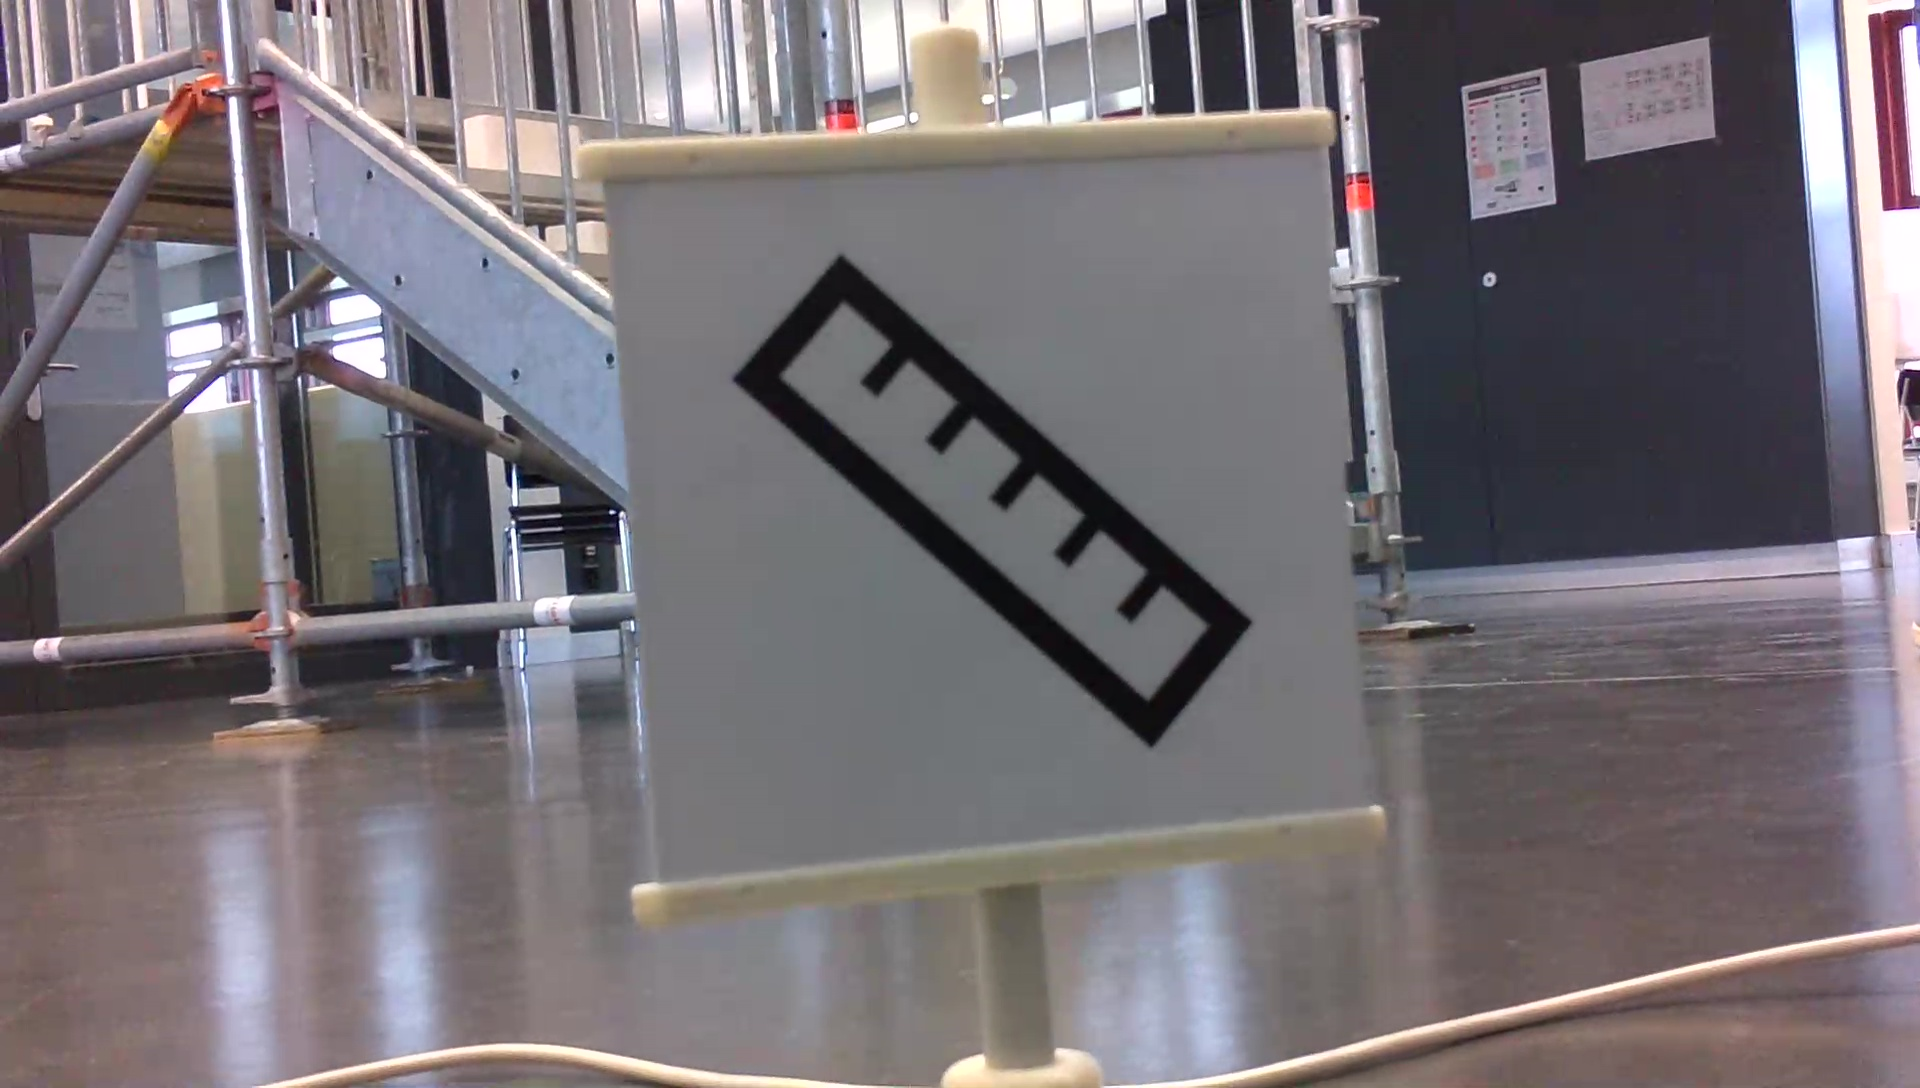ruler: (717, 255, 1251, 749)
